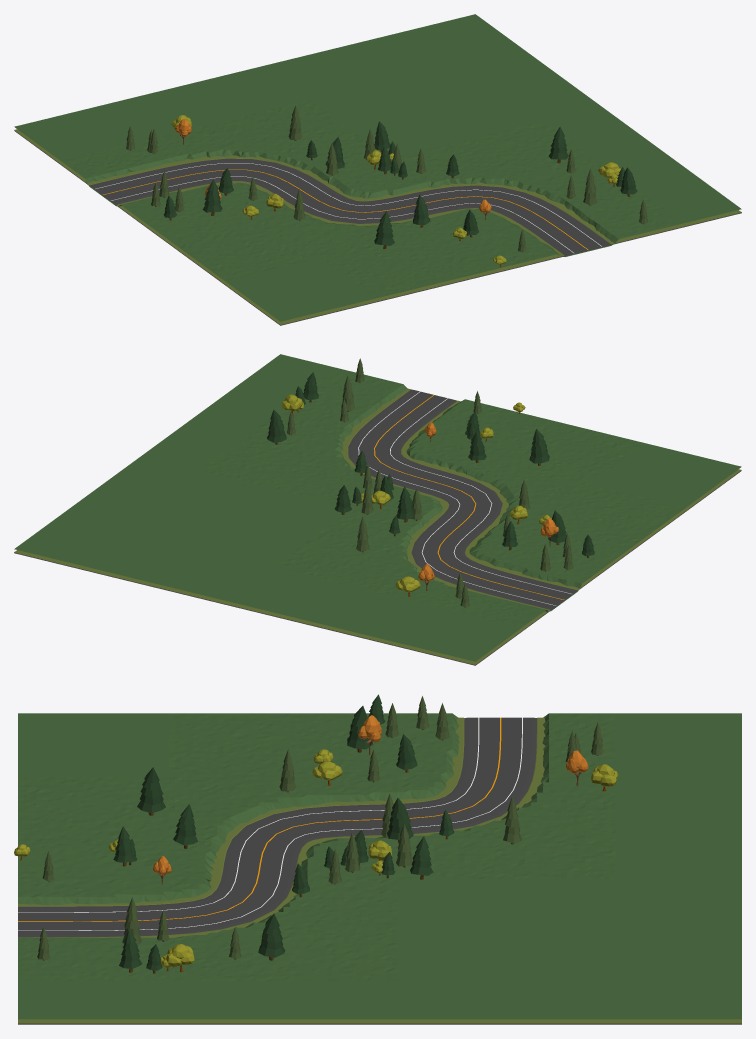
File: ForestRoadRight2.fbx
3 views of the same model, one above another, from view 1: azimuth 30°, elevation 25°; view 2: azimuth 150°, elevation 25°; view 3: azimuth 270°, elevation 25° (orthographic). The views are drawn at different scales.
Visible parts, largest first — view 1: FRR2Plane, FRR2Road; view 2: FRR2Plane, FRR2Road; view 3: FRR2Plane, FRR2Road, FRR2Plane|pineTree04|Dupli|44, FRR2Plane|pineTree04|Dupli|31, FRR2Plane|pineTree04|Dupli|46, FRR2Plane|pineTree04|Dupli|43, FRR2Plane|pineTree04|Dupli|14, FRR2Plane|pineTree04|Dupli|10, FRR2Plane|pineTree04|Dupli|13, FRR2Plane|pineTree05|Dupli|5.
Part boxes in pixels (box(x1,y1,x2,y2)): FRR2Plane: box(14, 14, 741, 321); FRR2Road: box(14, 129, 741, 325); FRR2Plane: box(14, 354, 741, 661); FRR2Road: box(14, 388, 741, 665); FRR2Plane: box(18, 713, 741, 1019); FRR2Road: box(18, 717, 741, 1024); FRR2Plane|pineTree04|Dupli|44: box(137, 767, 165, 815); FRR2Plane|pineTree04|Dupli|31: box(258, 913, 285, 960); FRR2Plane|pineTree04|Dupli|46: box(386, 798, 413, 843); FRR2Plane|pineTree04|Dupli|43: box(173, 804, 198, 848); FRR2Plane|pineTree04|Dupli|14: box(410, 836, 433, 879); FRR2Plane|pineTree04|Dupli|10: box(347, 706, 372, 752); FRR2Plane|pineTree04|Dupli|13: box(119, 930, 142, 972); FRR2Plane|pineTree05|Dupli|5: box(503, 796, 521, 844).
Size of what is drawn, in the model's own units: 30000 by 2584 by 30170.
